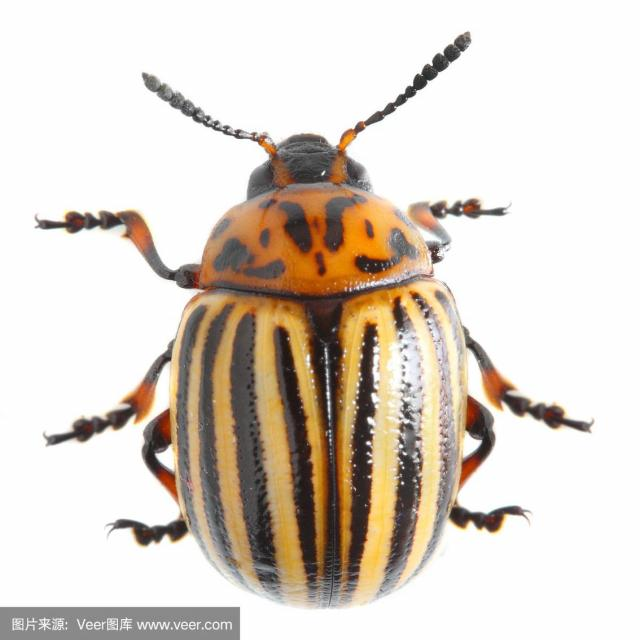ShuCaiHuaBanChong-Grown-: (29, 45, 582, 610)
